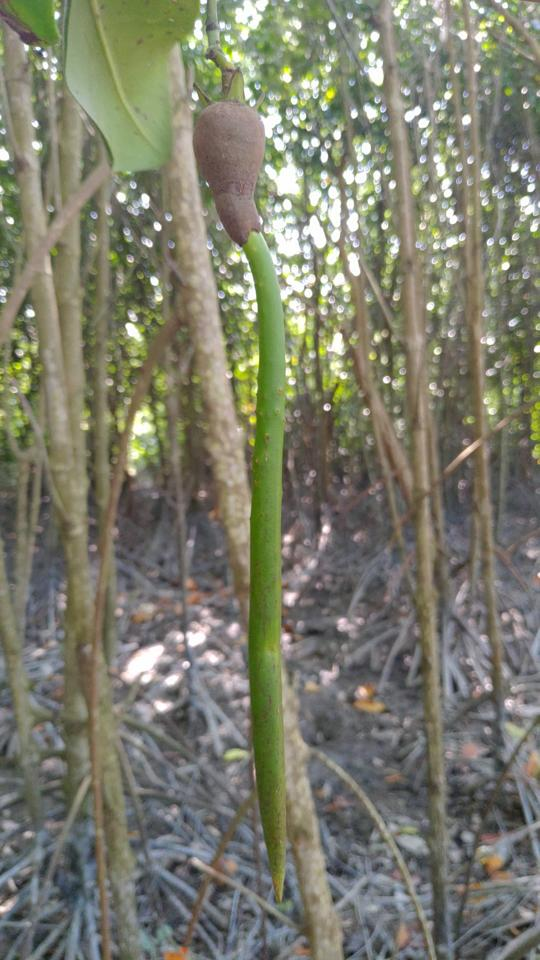mentah: (178, 69, 313, 918)
